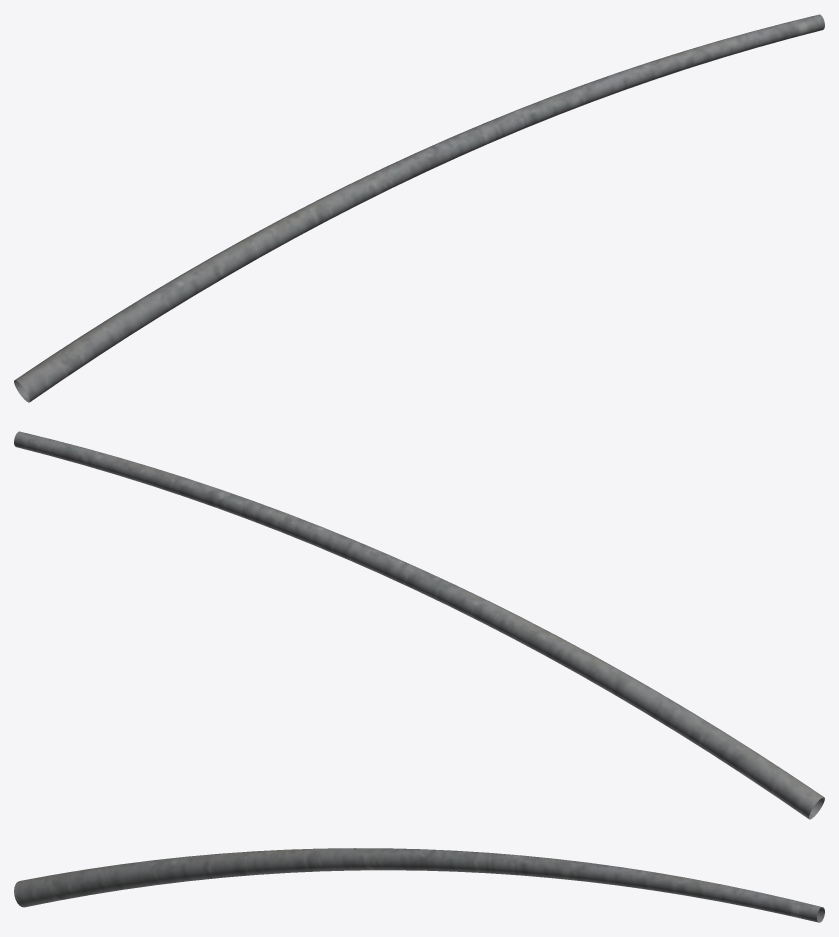
The model's file is armRise1-v1-galvanised.glb.
The picture shows the model from 3 angles, top to bottom: view 1: azimuth 30°, elevation 25°; view 2: azimuth 150°, elevation 25°; view 3: azimuth 330°, elevation 25°; orthographic projection.
Visible parts, largest first — view 1: armRise1-v1-galvanised; view 2: armRise1-v1-galvanised; view 3: armRise1-v1-galvanised.
Boxes of the visible parts, x1,y1,x2,y2 form: armRise1-v1-galvanised: (14,14,824,402); armRise1-v1-galvanised: (14,431,824,819); armRise1-v1-galvanised: (14,848,824,922).
Bounding box in the file's own units: 6.13 × 1.41 × 0.1778.
1 material, 1 textured.
